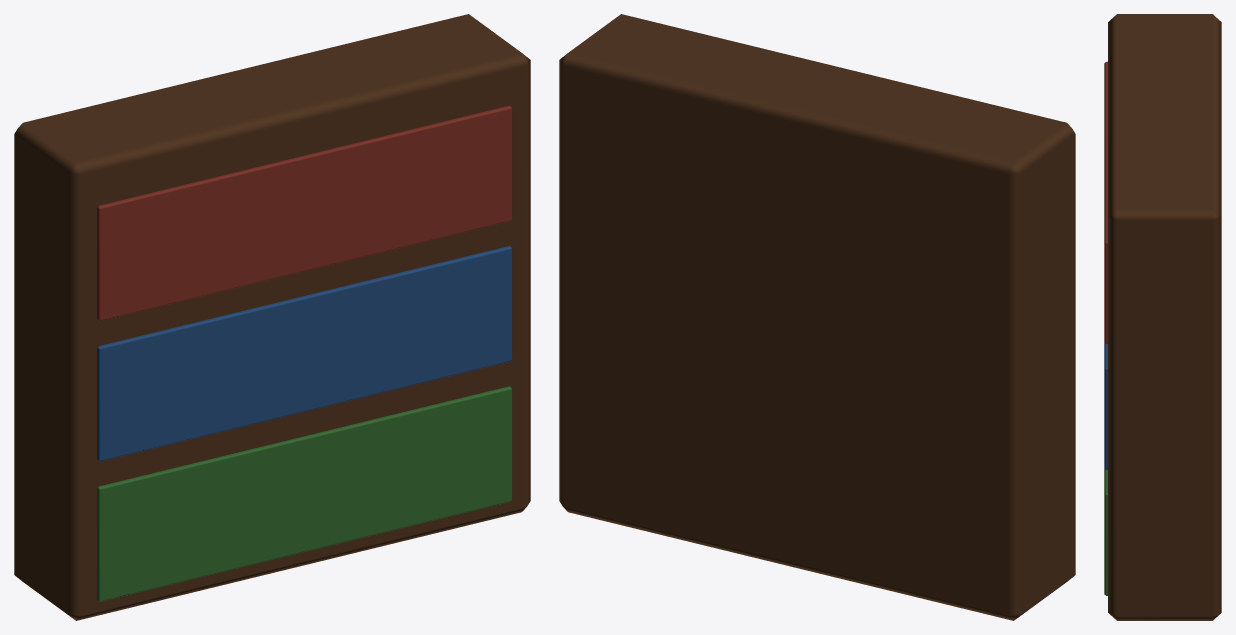
The model's file is bookshelf.aca6bc65.glb.
3 views of the same model, side by side, from view 1: azimuth 30°, elevation 25°; view 2: azimuth 150°, elevation 25°; view 3: azimuth 270°, elevation 25° (orthographic). The views are drawn at different scales.
Parts seen in each view (by area): view 1: body; view 2: body; view 3: body.
Boxes of the visible parts, bbox=[...] form: body: bbox=[14, 14, 530, 620]; body: bbox=[559, 14, 1075, 620]; body: bbox=[1104, 14, 1221, 620].
Bounding box in the file's own units: 1.9 × 1.8 × 0.465.
